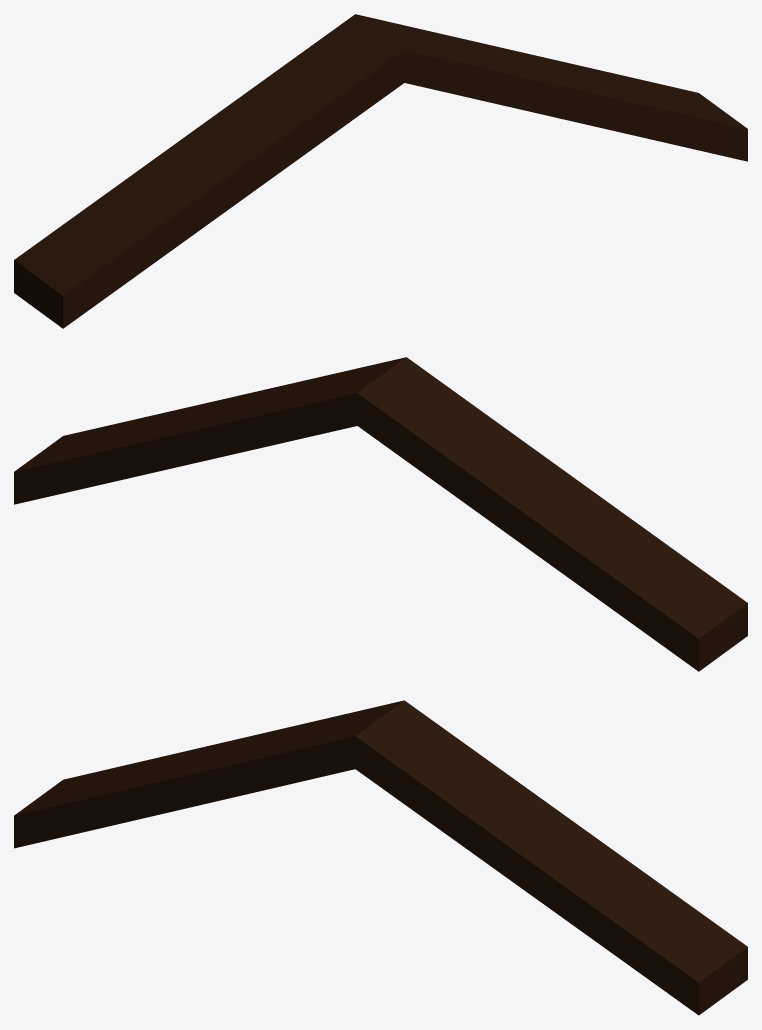
File: Roof_Side_01C.fbx
3 views of the same model, one above another, from view 1: azimuth 30°, elevation 25°; view 2: azimuth 150°, elevation 25°; view 3: azimuth 330°, elevation 25° (orthographic).
Visible parts, largest first — view 1: Roof_Side_01C; view 2: Roof_Side_01C; view 3: Roof_Side_01C.
Part boxes in pixels (x1,y1,x2,y2): Roof_Side_01C: (14,14,747,328); Roof_Side_01C: (14,357,747,671); Roof_Side_01C: (14,700,747,1015).
Size of the model in its own units: 300 by 81.82 by 37.28.
